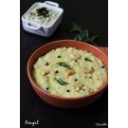venpongal: (36, 50, 105, 92)
